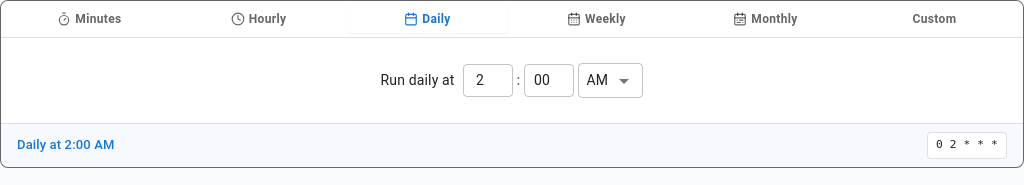
it: CronBuilder › switches to Weekly frequency and shows days
// Click "Weekly" toggle
Click the button "Weekly": (596, 19) [516,5,677,33]
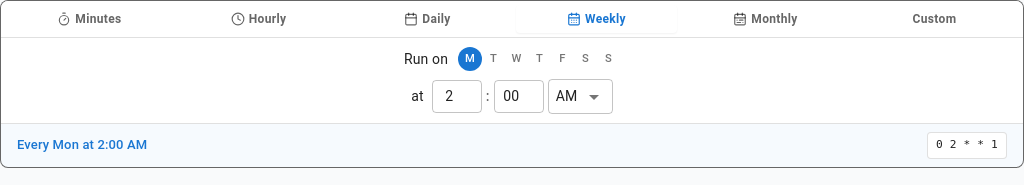
Result: the text "Run on" is shown at [404,49,448,69]
Result: the button "M" is shown at [458,47,482,71]
Result: the number of buttons "S" is 2 at [573,47,597,71]; [596,47,620,71]
